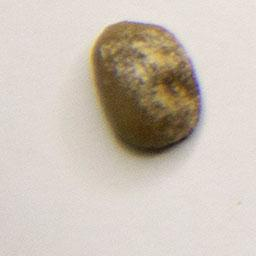defect: (86, 16, 206, 156)
